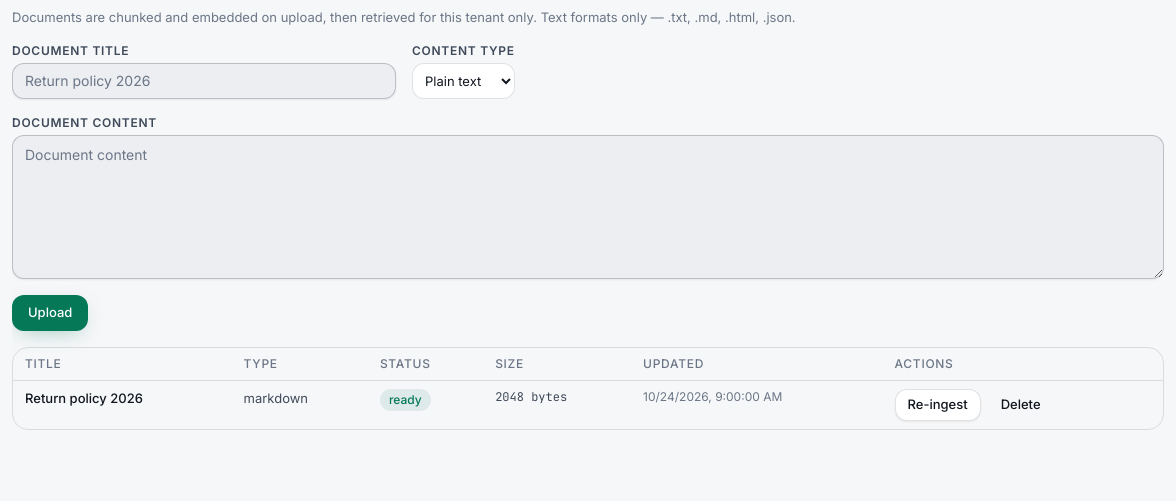
it: KnowledgeManager › deletes only after a confirmation, and says so afterwards
Click the button "Delete".
click(1021, 405)  # box [989,389,1053,421]
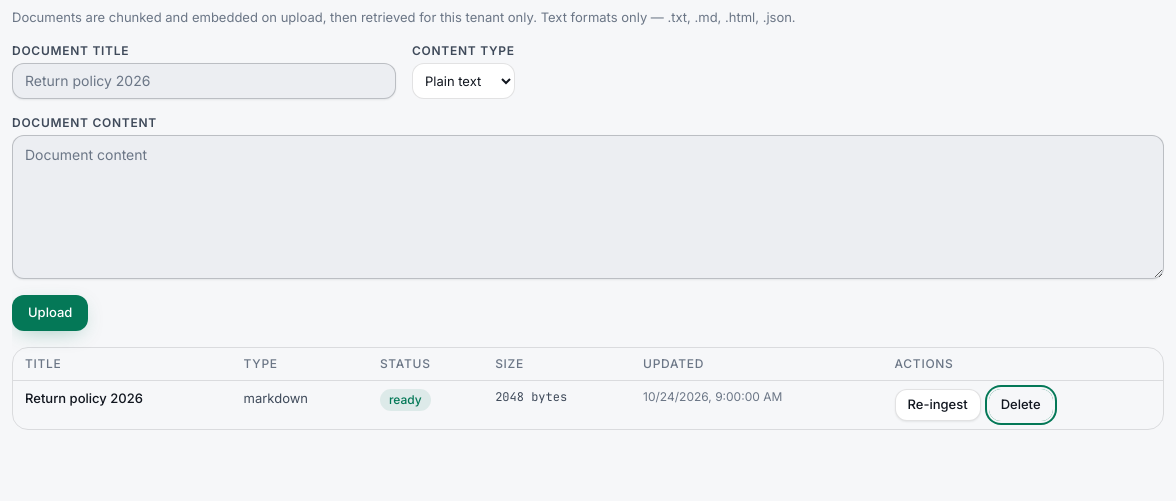
Click the button "Delete".
click(1021, 405)  # box [989,389,1053,421]
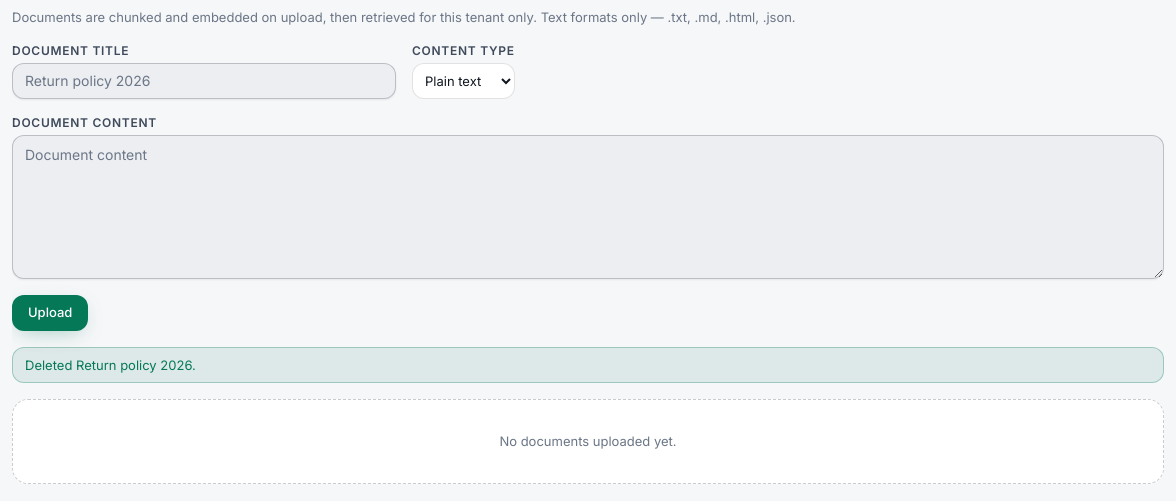
Expected: the text "Deleted Return policy 2026." is shown, [12,347,1164,383]
Expected: the text "No documents uploaded yet." is shown, [12,399,1164,484]
